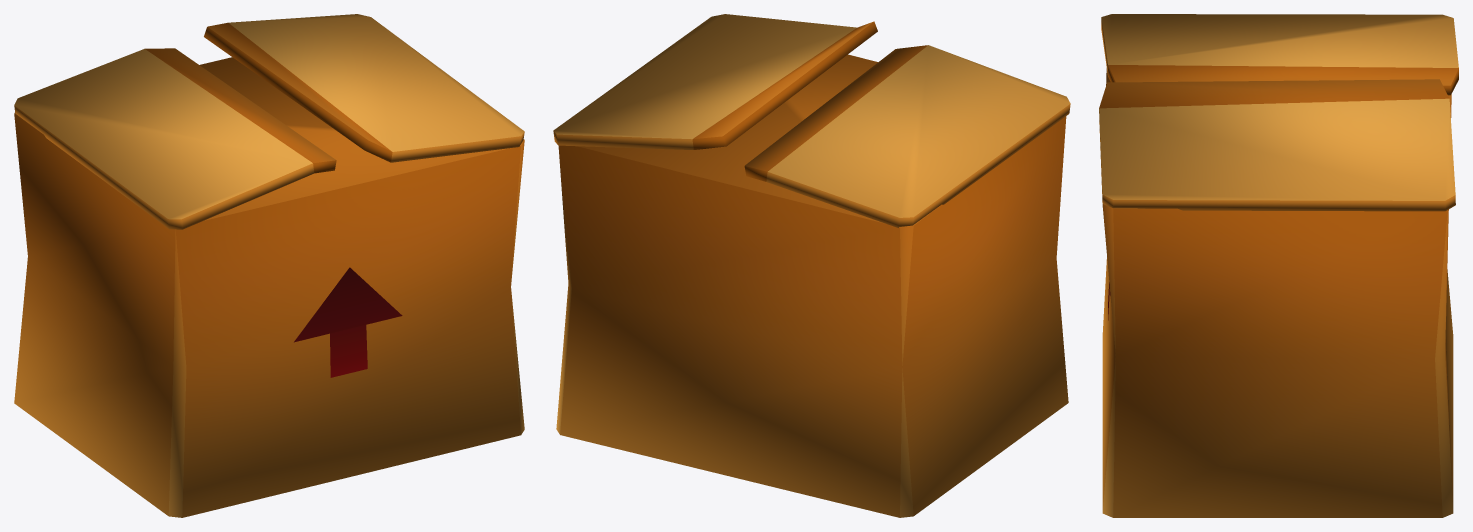
The model's file is Paper_Pack_1B.fbx.
3 renders of one model, left to right at view 1: azimuth 30°, elevation 25°; view 2: azimuth 150°, elevation 25°; view 3: azimuth 270°, elevation 25°, orthographic. The views are drawn at different scales.
Visible parts, largest first — view 1: Paper_Pack_1B; view 2: Paper_Pack_1B; view 3: Paper_Pack_1B.
Part boxes in pixels (x1,y1,x2,y2): Paper_Pack_1B: [14, 14, 524, 517]; Paper_Pack_1B: [553, 14, 1070, 517]; Paper_Pack_1B: [1099, 14, 1458, 517].
Bounding box in the file's own units: 126 × 111 × 103.
